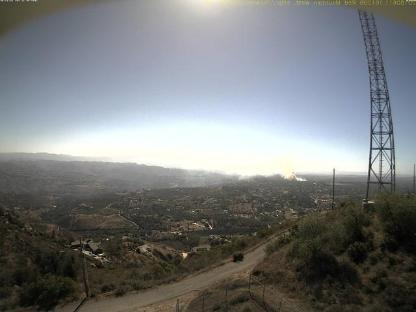smoke: (183, 162, 309, 184)
